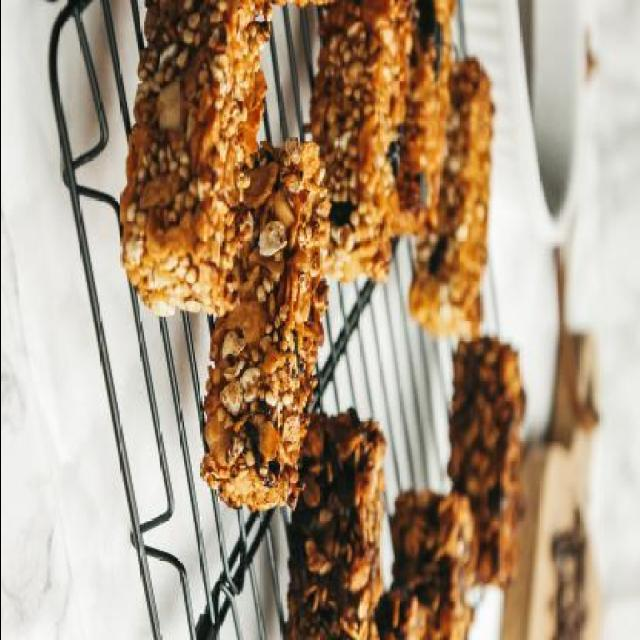Cereal bar packaged: (113, 0, 269, 316), (202, 136, 326, 512), (312, 1, 408, 298), (450, 323, 536, 603), (288, 408, 382, 640)
